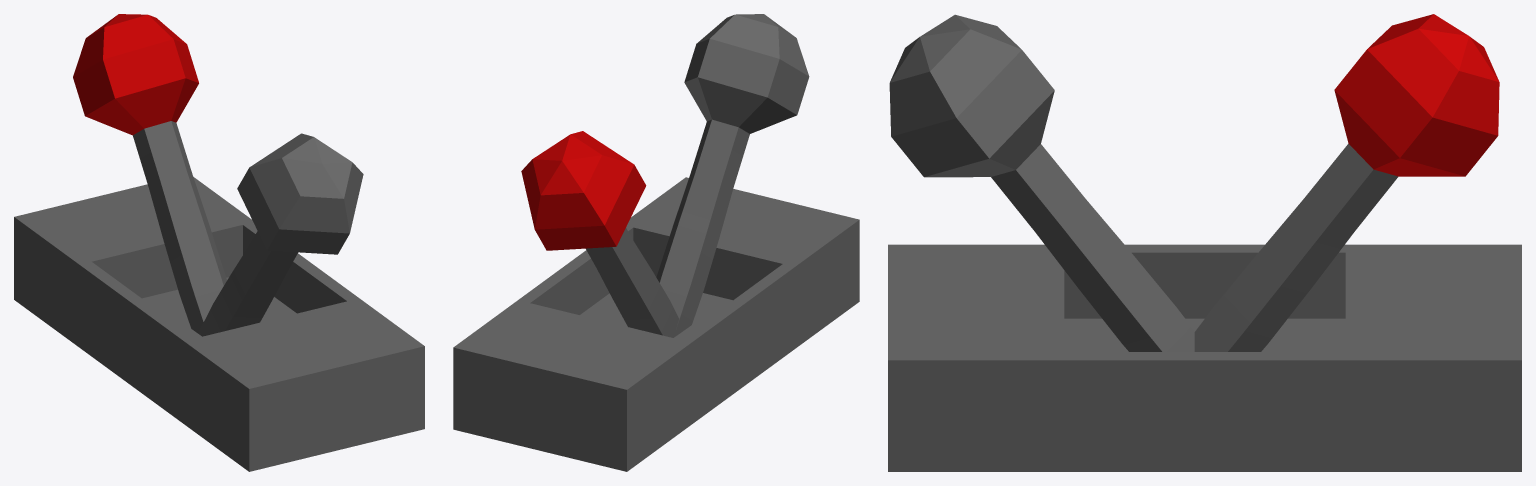
Rendered from btn_throttle.FBX.
3 views of the same model, side by side, from view 1: azimuth 30°, elevation 25°; view 2: azimuth 150°, elevation 25°; view 3: azimuth 270°, elevation 25° (orthographic). The views are drawn at different scales.
Visible parts, largest first — view 1: pCube6, pSphere4, pSphere1; view 2: pCube6, pSphere1, pSphere4; view 3: pCube6, pSphere4, pSphere1.
Boxes of the visible parts, <box> form: pCube6: <box>14,177,424,471</box>; pSphere4: <box>73,14,226,334</box>; pSphere1: <box>199,133,363,336</box>; pCube6: <box>453,177,859,471</box>; pSphere1: <box>656,14,809,336</box>; pSphere4: <box>521,131,678,337</box>; pCube6: <box>888,244,1521,471</box>; pSphere4: <box>1194,14,1499,351</box>; pSphere1: <box>889,14,1194,351</box>.
Bounding box in the file's own units: 42.2 × 66.58 × 97.88.
